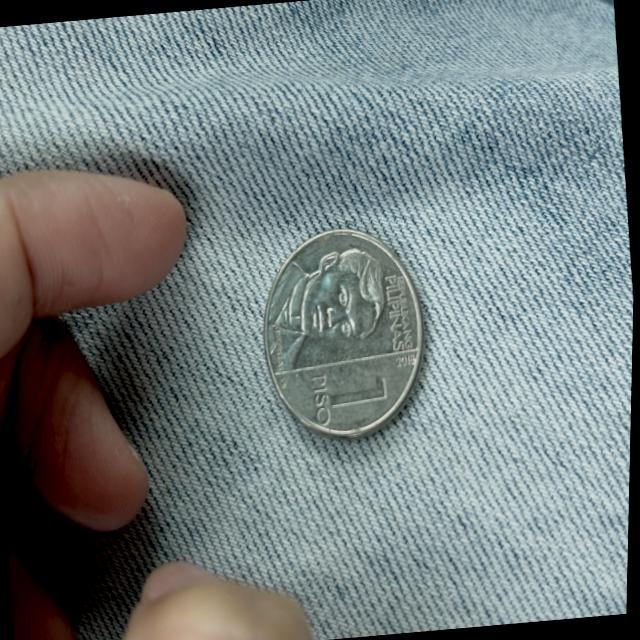1_New_Front: (306, 358, 398, 424)
